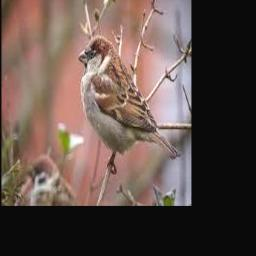Sparrow: (78, 35, 180, 172)
